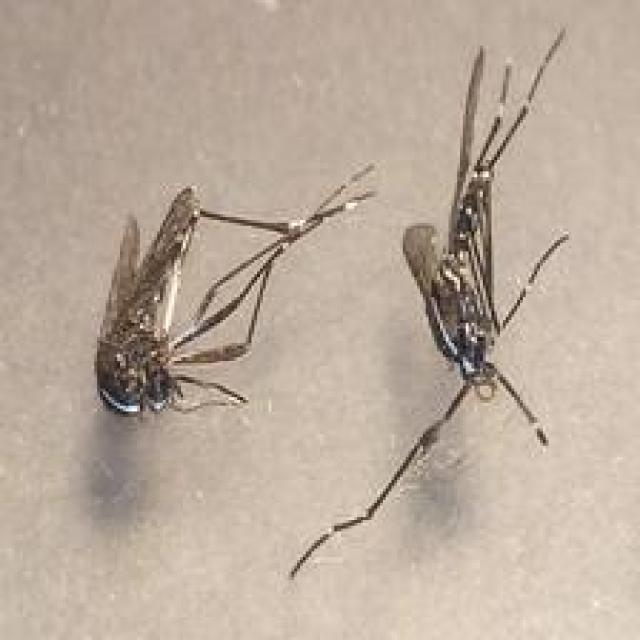Aedes albopictus: (92, 162, 377, 418)
